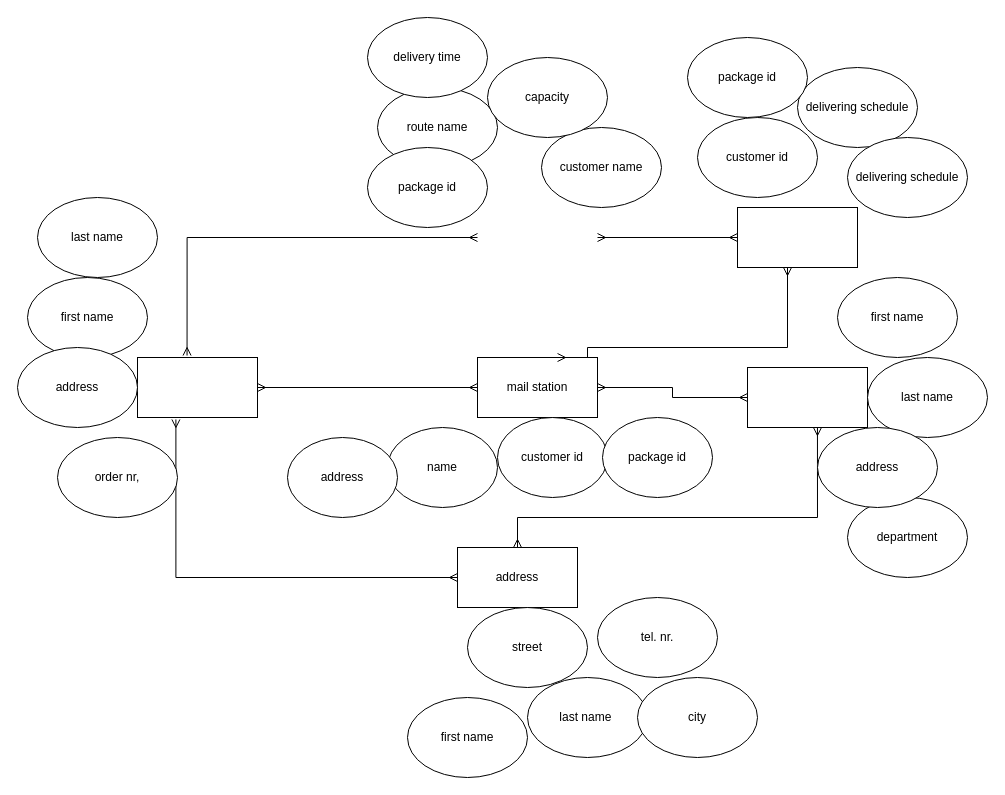
The diagram is 1005 pixels wide and 795 high, and some of its shapes have lost their labels. Each missing label, with the centre of its shape:
"customer" belongs at point 197,387.
"employees" belongs at point 807,397.
"packaging" belongs at point 797,237.
